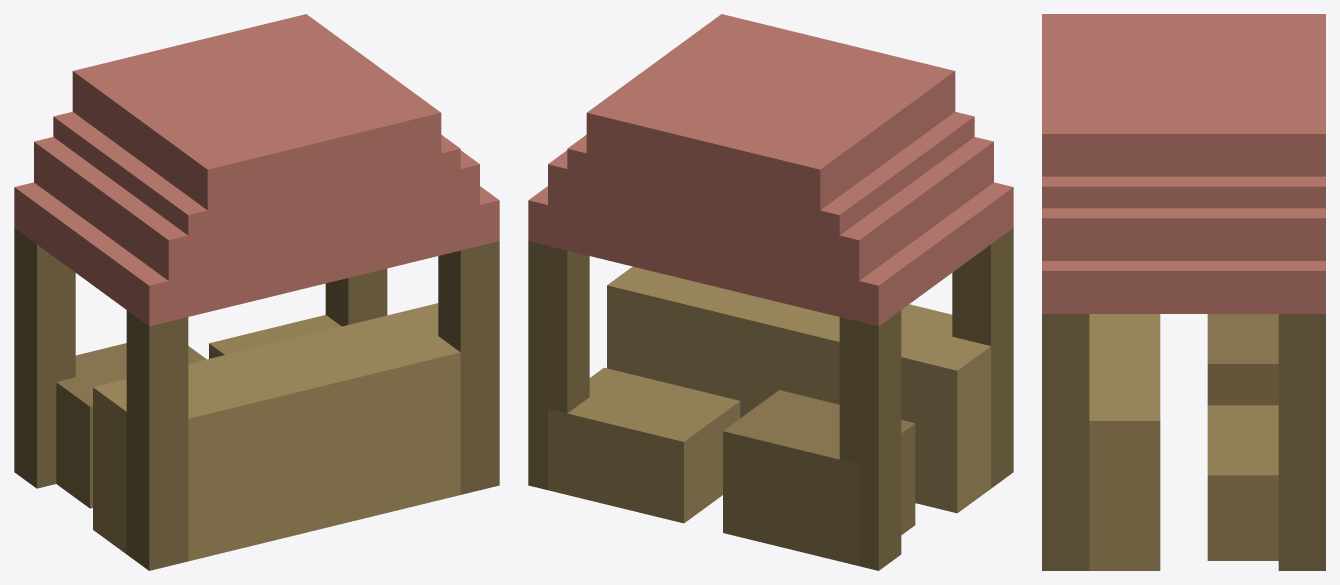
Rendered from puesto_mercado_02.glb.
3 renders of one model, left to right at view 1: azimuth 30°, elevation 25°; view 2: azimuth 150°, elevation 25°; view 3: azimuth 270°, elevation 25°, orthographic. The views are drawn at different scales.
Parts seen in each view (by area): view 1: puesto_mercado_02; view 2: puesto_mercado_02; view 3: puesto_mercado_02.
Boxes of the visible parts, x1,y1,x2,y2 form: puesto_mercado_02: (14,14,499,570); puesto_mercado_02: (528,14,1013,570); puesto_mercado_02: (1042,14,1325,570).
Size of the model in its own units: 1.8 by 1.9 by 1.2.
